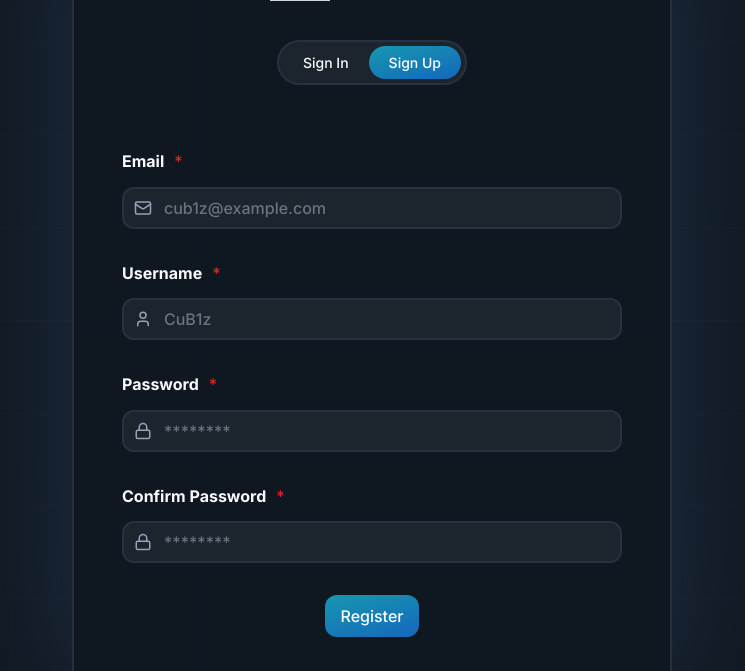
Test: Register Page Validation › shows validation error for empty username
The image size is (745, 671).
(page scrolled)
Click the button "Register": {"x": 372, "y": 616} [324,595,420,637]
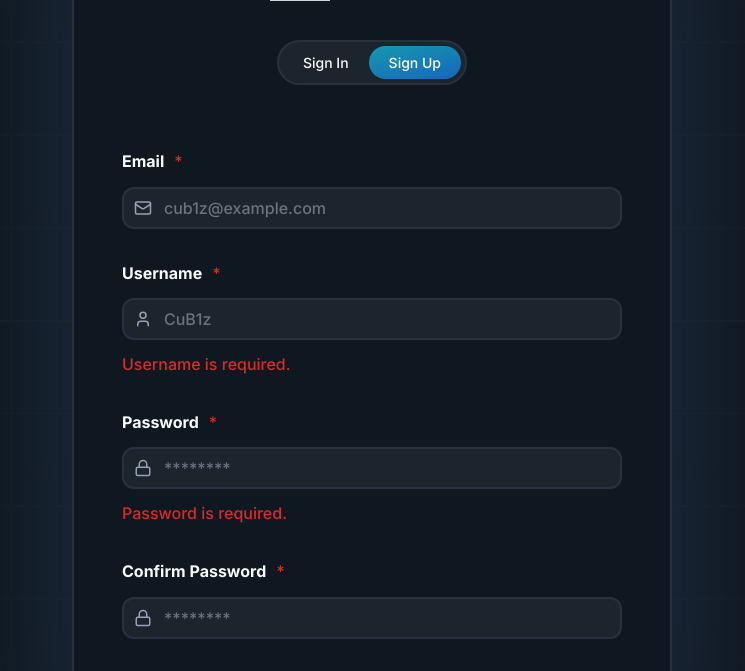
Check: the text "Username is required." is shown, box [122,354,291,374]
